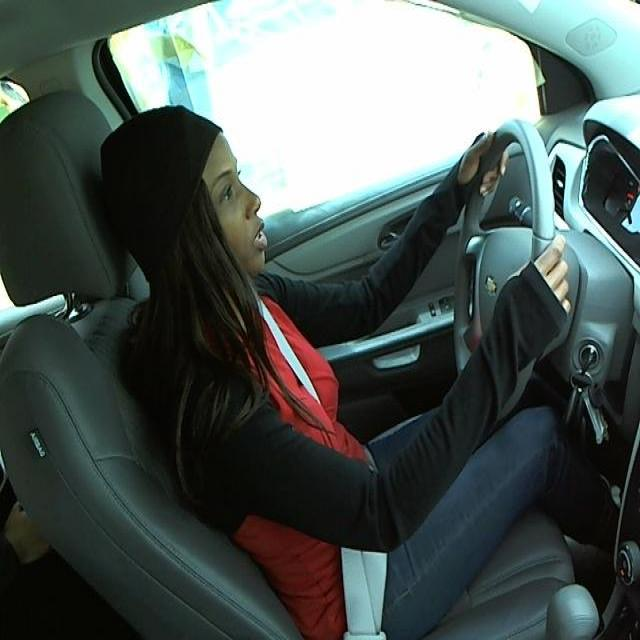without_using_phone: (84, 54, 279, 368)
